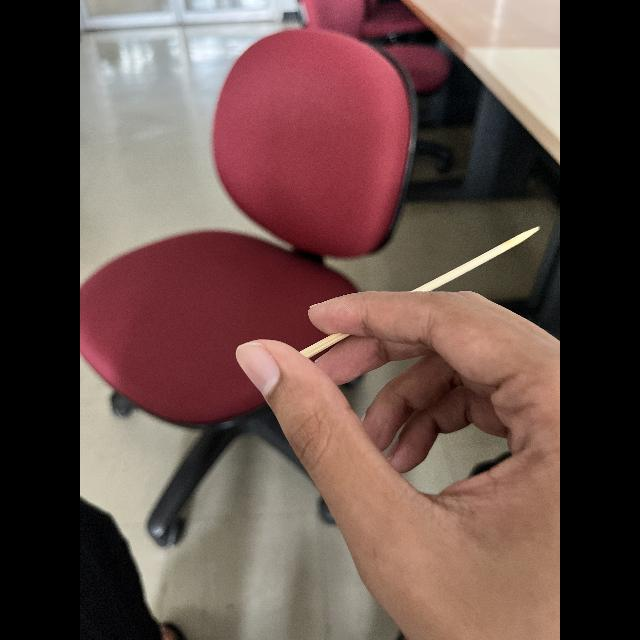stick: (293, 214, 543, 356)
